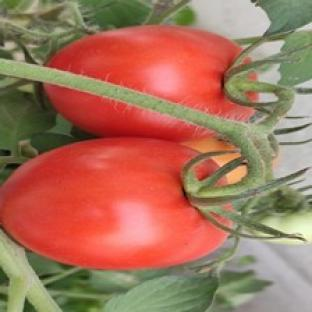Tomato: (0, 138, 227, 268), (48, 26, 254, 121), (258, 209, 311, 245), (183, 137, 240, 167)
